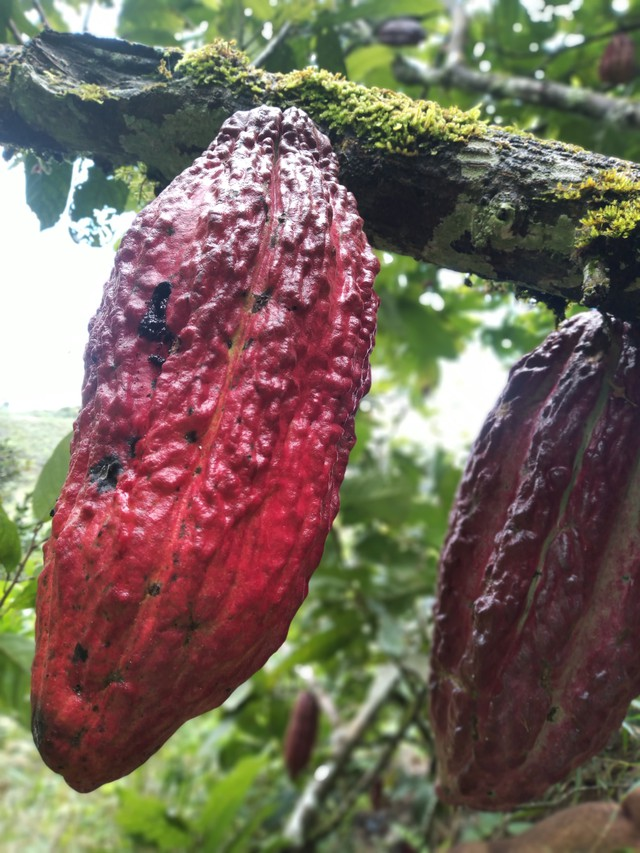carmenta foraseminis: (25, 105, 376, 802), (426, 309, 640, 805)
